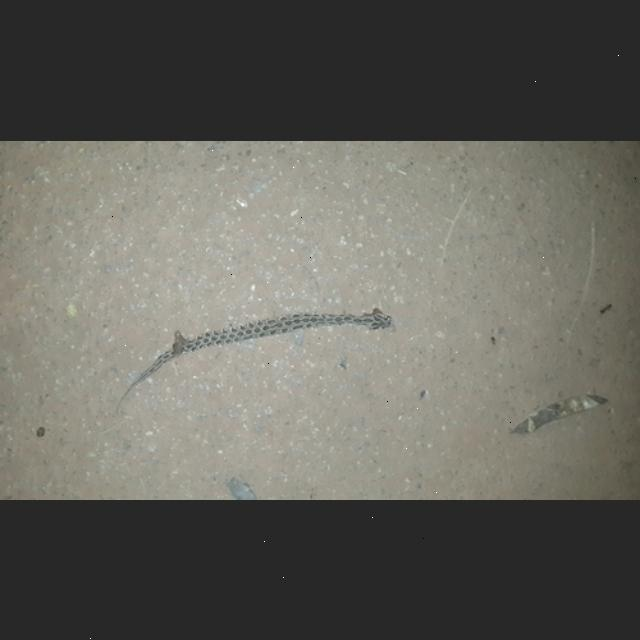snake: (118, 298, 404, 412)
